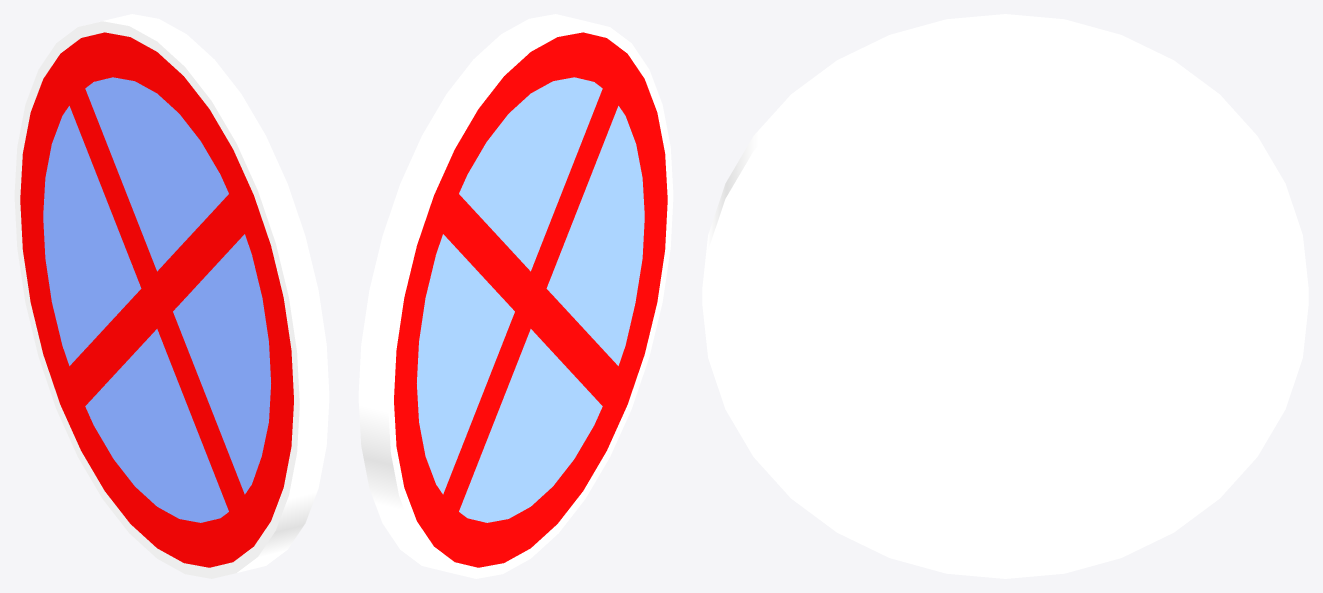
File: No_Parking.glb
3 views of the same model, side by side, from view 1: azimuth 30°, elevation 25°; view 2: azimuth 150°, elevation 25°; view 3: azimuth 270°, elevation 25° (orthographic). The views are drawn at different scales.
Parts seen in each view (by area): view 1: No_Parking; view 2: No_Parking; view 3: No_Parking.
Boxes of the visible parts, x1,y1,x2,y2 form: No_Parking: (14,14,329,578); No_Parking: (358,14,673,578); No_Parking: (702,14,1308,578).
Size of the model in its own units: 0.06 by 1 by 1.
